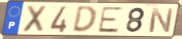4: (50, 5, 69, 34)
8: (125, 7, 146, 34)
D: (71, 5, 99, 34)
E: (96, 6, 124, 34)
N: (148, 7, 175, 34)
X: (21, 5, 49, 34)
